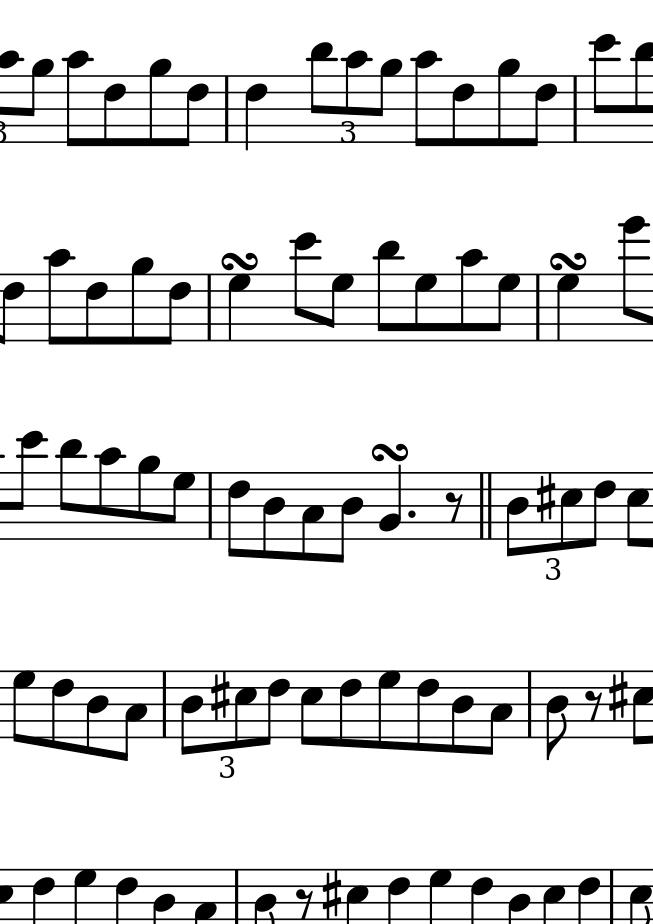3: (339, 119, 357, 145), (544, 557, 561, 583), (218, 755, 235, 780)
4_2: (379, 464, 404, 540)
4_6: (243, 74, 268, 153)
4_7: (227, 272, 253, 342), (556, 272, 581, 342)
8_10: (64, 50, 95, 149), (457, 249, 489, 342), (413, 49, 442, 149), (47, 249, 75, 347), (97, 447, 125, 541), (344, 49, 371, 144)
8_11: (57, 438, 88, 541), (308, 42, 338, 143), (376, 240, 404, 343), (632, 40, 653, 144)
8_12: (10, 430, 47, 541), (290, 232, 321, 343), (591, 32, 621, 144)
8_14: (619, 214, 650, 343)
8_3: (474, 669, 513, 756), (117, 669, 148, 762), (299, 470, 325, 562)
8_4: (334, 470, 364, 564), (260, 470, 289, 560), (545, 668, 570, 760), (83, 669, 109, 755), (504, 470, 529, 559), (449, 670, 475, 755), (179, 669, 204, 756)
8_5: (232, 669, 258, 749), (625, 470, 649, 550), (299, 668, 324, 744), (559, 472, 583, 549), (630, 668, 653, 746)
8_6: (160, 272, 194, 345), (259, 669, 291, 746), (178, 74, 210, 147), (226, 470, 252, 558), (587, 471, 616, 548), (528, 73, 559, 145), (336, 668, 364, 747), (415, 668, 441, 753), (50, 670, 75, 749), (449, 74, 476, 146), (103, 73, 127, 146), (85, 272, 109, 345)
8_7: (325, 273, 356, 343), (375, 669, 402, 749), (166, 470, 196, 541), (12, 669, 37, 744), (414, 272, 438, 343)
8_8: (490, 272, 522, 341)
8_9: (372, 58, 403, 143), (25, 58, 55, 143), (495, 57, 521, 147), (129, 257, 155, 347), (134, 455, 160, 541), (147, 58, 171, 145)
Double_barline: (475, 471, 497, 540)
Rests8: (445, 490, 464, 524), (294, 887, 314, 918), (585, 689, 602, 723)
Sharp: (321, 866, 343, 919), (535, 469, 556, 523), (609, 671, 628, 724), (212, 671, 230, 722)
Single_barline: (155, 671, 173, 738), (201, 274, 219, 341), (521, 670, 538, 739), (219, 76, 236, 142), (531, 274, 547, 342), (202, 472, 218, 539), (568, 77, 584, 142), (227, 870, 245, 923), (605, 869, 620, 923)
Turn: (370, 439, 410, 463), (219, 250, 262, 271), (547, 251, 588, 272)
dot: (404, 508, 420, 522)
